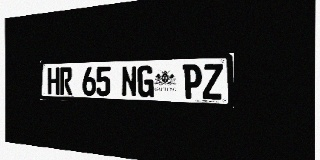5: (96, 66, 111, 96)
6: (82, 67, 96, 96)
G: (137, 65, 154, 98)
H: (48, 68, 59, 95)
N: (121, 66, 137, 97)
P: (183, 64, 202, 99)
R: (60, 67, 72, 95)
Z: (203, 64, 223, 100)
